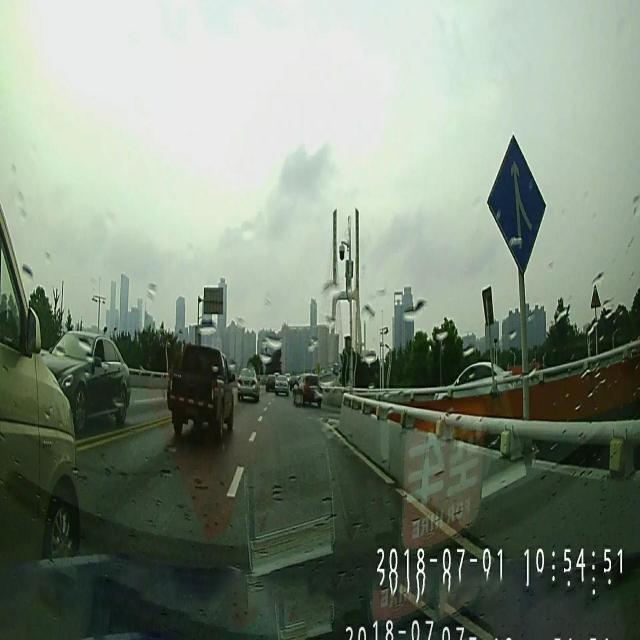car: (0, 203, 79, 585), (40, 331, 130, 427), (164, 342, 234, 445), (292, 372, 324, 411), (237, 366, 260, 404), (274, 375, 288, 397), (266, 376, 274, 391)
